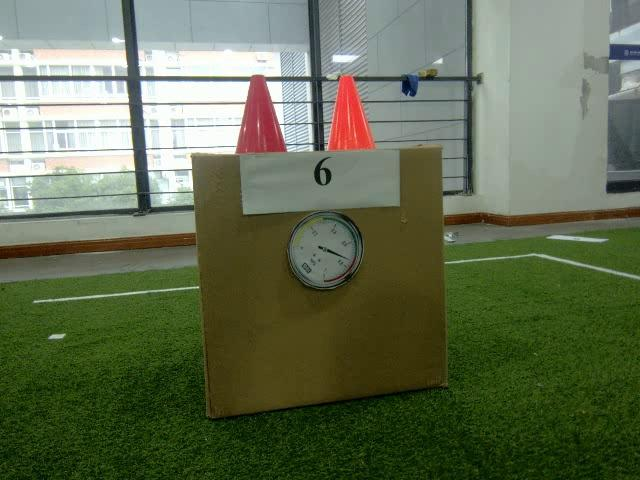6: (313, 154, 333, 188)
Dashboard: (288, 212, 364, 292)
orange_barrel: (326, 74, 376, 150)
red_barrel: (233, 74, 289, 156)
ssi: (299, 261, 312, 275)
